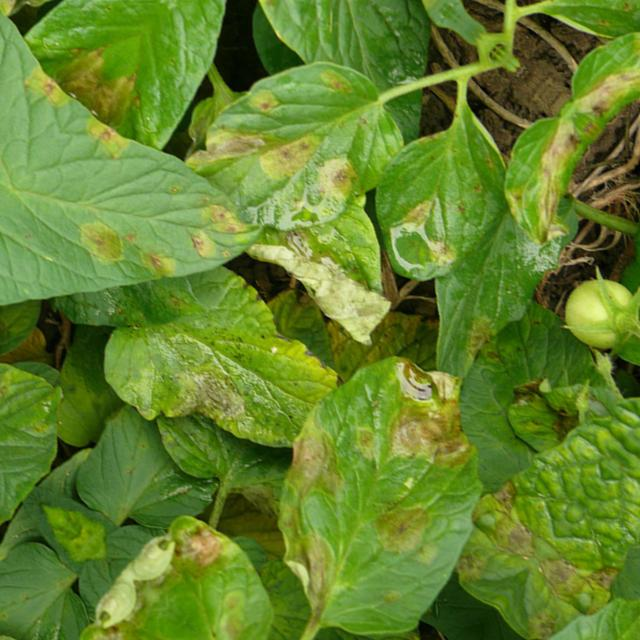Tomato leaf late blight: (0, 66, 322, 497), (202, 312, 566, 640), (70, 188, 394, 502), (153, 0, 452, 298), (329, 69, 561, 309), (93, 463, 344, 640), (460, 92, 640, 274), (0, 280, 114, 507), (0, 438, 164, 587)
